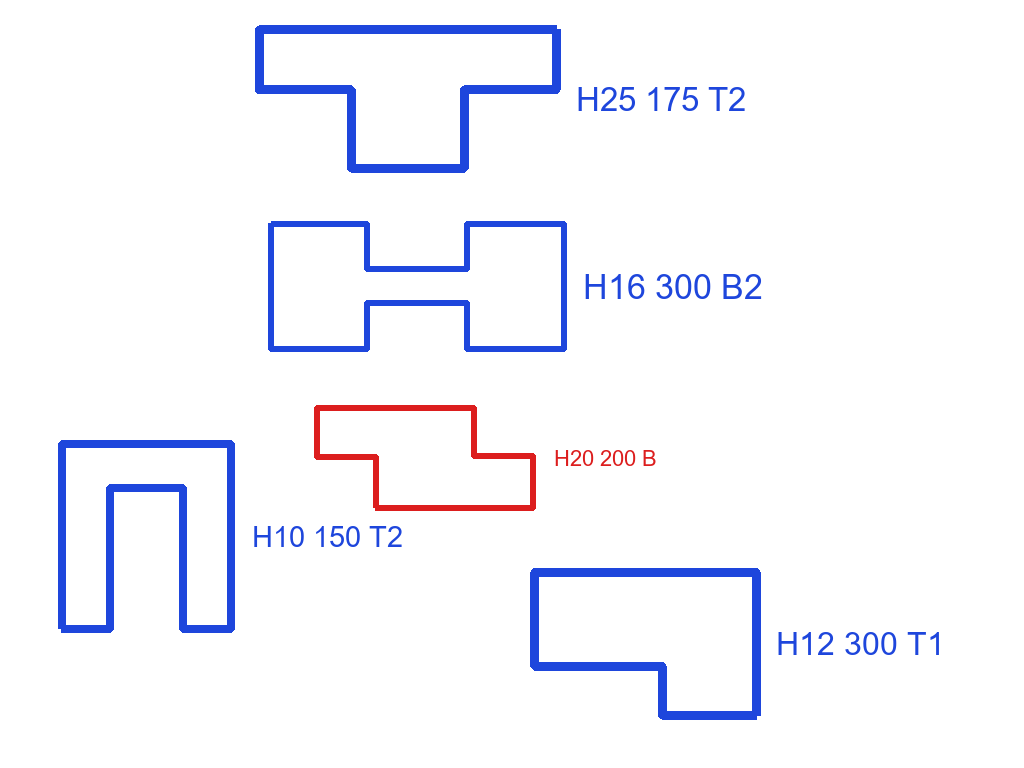shape: (253, 23, 563, 175), (266, 218, 568, 355), (528, 566, 763, 722), (56, 438, 238, 634), (312, 404, 539, 513)
text: (581, 272, 765, 301), (574, 85, 748, 113), (774, 630, 947, 657), (250, 524, 405, 549), (552, 448, 659, 468)
